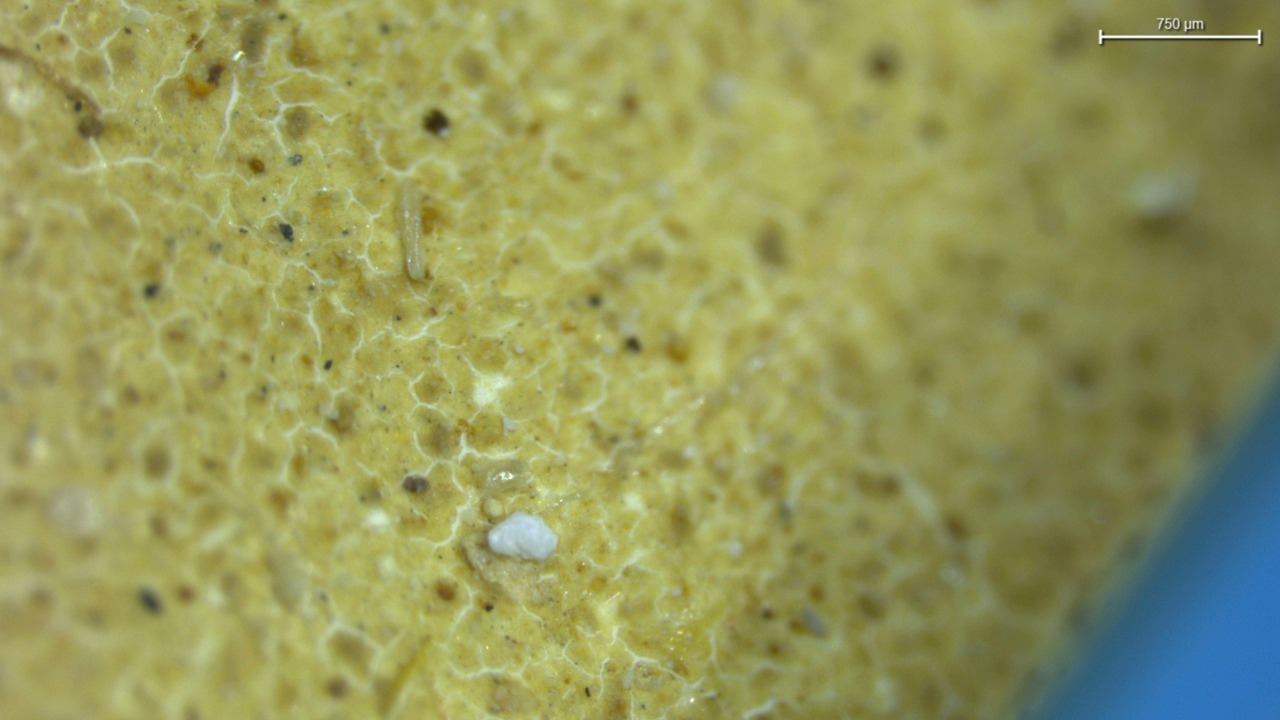microplastic_fragment: (487, 511, 557, 561)
